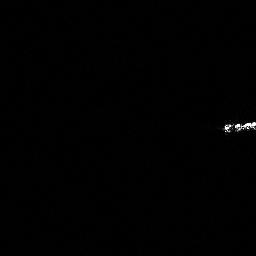ship: (222, 119, 256, 134)
